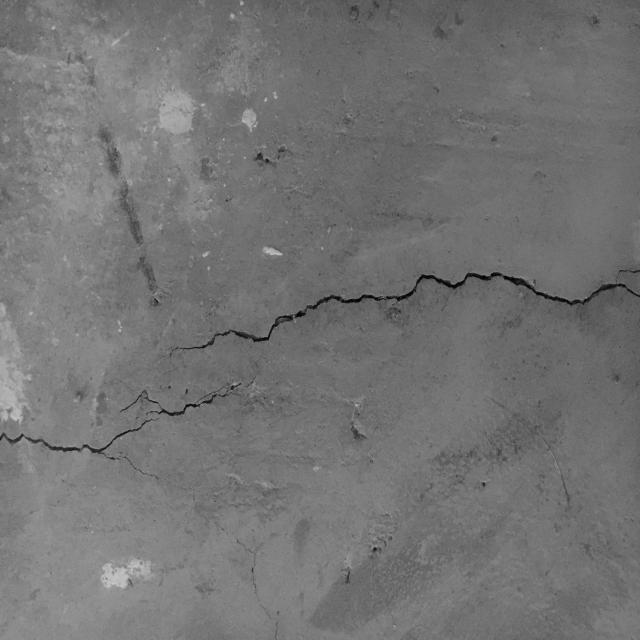SurfaceCrack: (2, 237, 640, 383)
